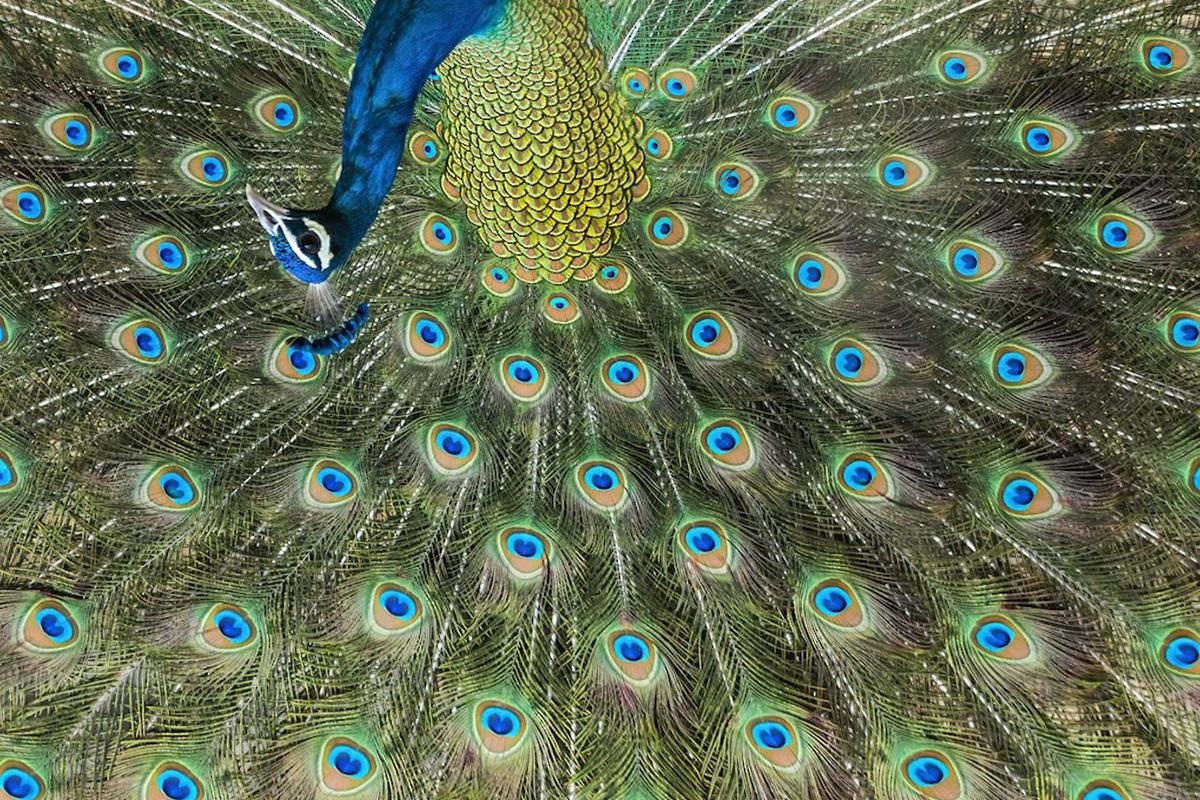peacock: (53, 15, 1200, 540)
